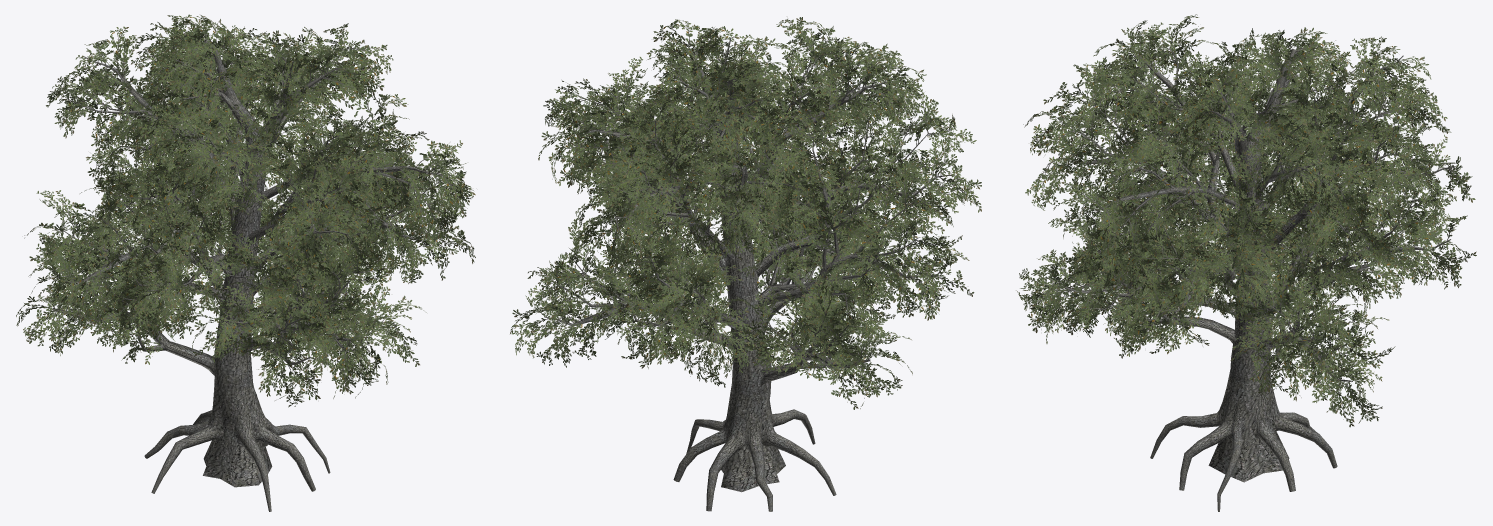
Rendered from chene-2.glb.
3 views of the same model, side by side, from view 1: azimuth 30°, elevation 25°; view 2: azimuth 150°, elevation 25°; view 3: azimuth 270°, elevation 25° (orthographic).
Visible parts, largest first — view 1: Oak01_LOD0; view 2: Oak01_LOD0; view 3: Oak01_LOD0.
Part boxes in pixels (bbox=[...]): Oak01_LOD0: bbox=[16, 14, 475, 511]; Oak01_LOD0: bbox=[510, 17, 981, 511]; Oak01_LOD0: bbox=[1016, 14, 1476, 511].
Bounding box in the file's own units: 22.98 × 24.2 × 23.31.
Materials: 2 (2 with a texture image).
